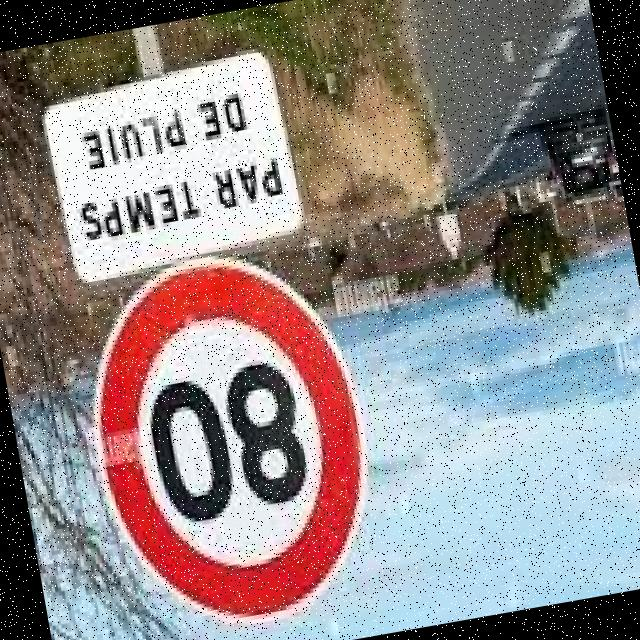speed_limit_80: (54, 237, 411, 640)
